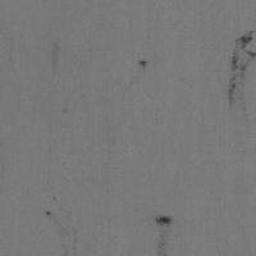Inclusion: (228, 31, 256, 104), (154, 215, 173, 227), (139, 60, 147, 68)
